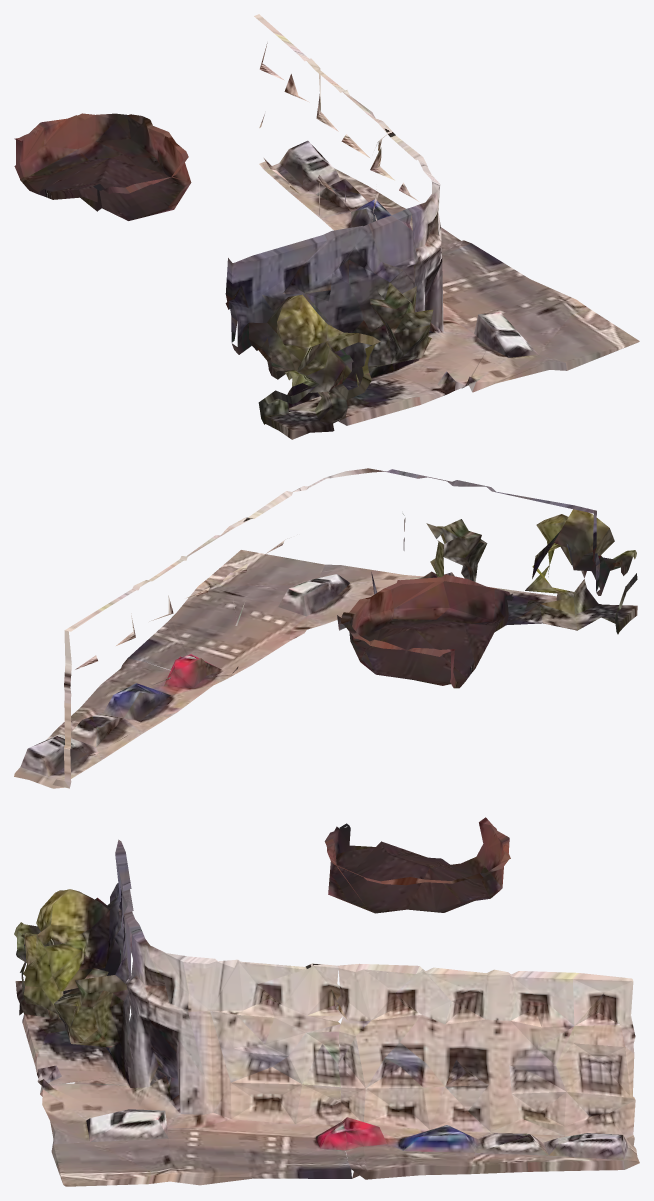
3 renders of one model, top to bottom at view 1: azimuth 30°, elevation 25°; view 2: azimuth 150°, elevation 25°; view 3: azimuth 270°, elevation 25°, orthographic. The views are drawn at different scales.
Parts seen in each view (by area): view 1: Mesh_0; view 2: Mesh_0; view 3: Mesh_0.
Boxes of the visible parts, <box> form: Mesh_0: <box>14,14,639,439</box>; Mesh_0: <box>14,468,637,788</box>; Mesh_0: <box>14,817,639,1186</box>.
Bounding box in the file's own units: 32.83 × 12.41 × 41.36.
1 material, 1 textured.
